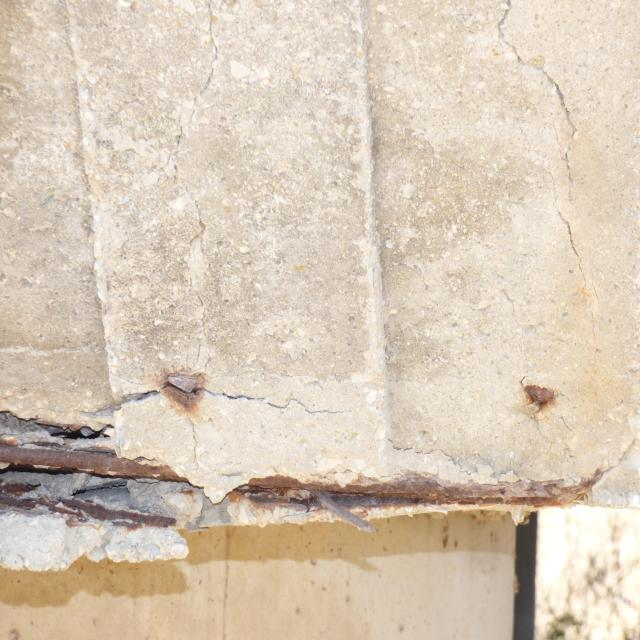Rebar: (0, 406, 640, 568), (518, 378, 566, 415)
horizontal crack: (11, 386, 362, 425), (384, 436, 534, 483)
vertical crack: (496, 0, 593, 349), (152, 0, 225, 376), (176, 415, 236, 637)
